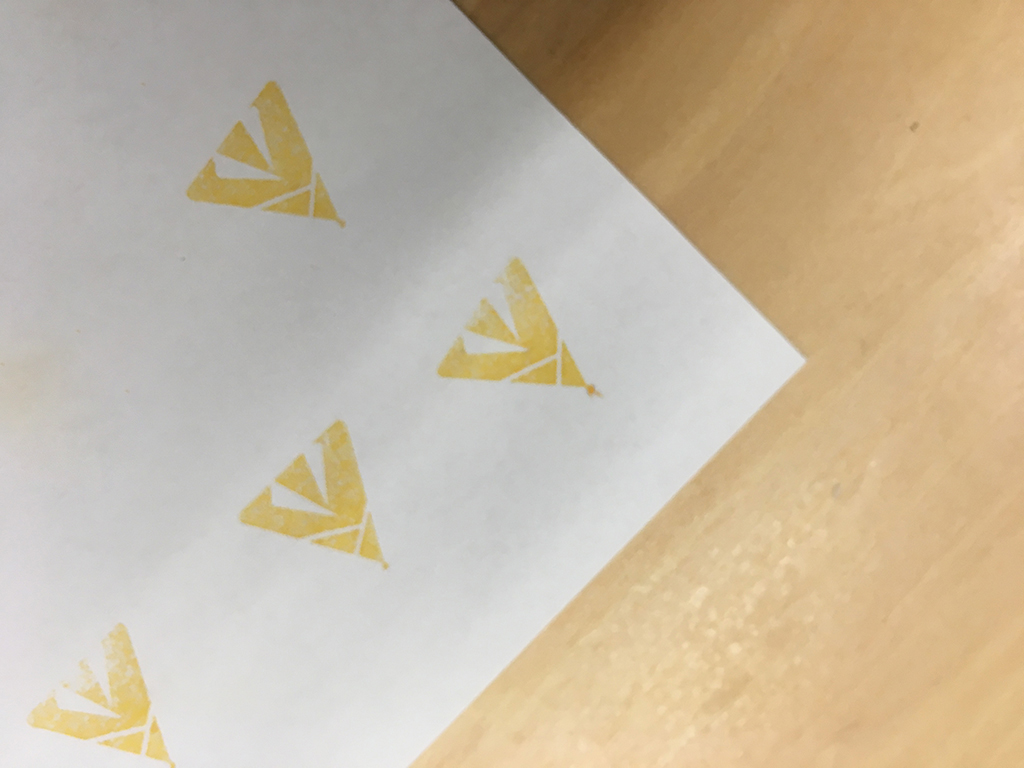tent: (178, 66, 353, 236), (430, 249, 611, 406), (230, 414, 396, 578), (20, 612, 182, 768)
